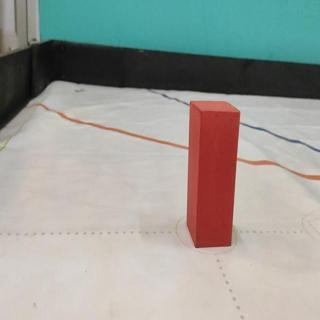redbox: (187, 99, 241, 248)
